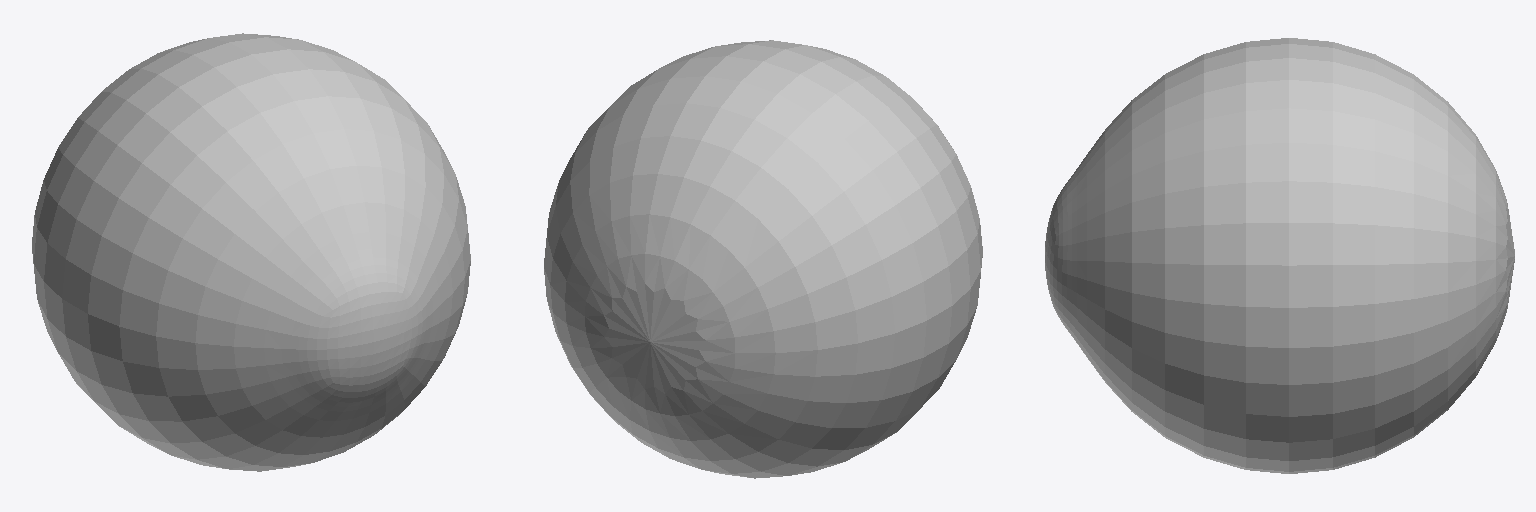
The model's file is bigEye.obj.
3 views of the same model, side by side, from view 1: azimuth 30°, elevation 25°; view 2: azimuth 150°, elevation 25°; view 3: azimuth 270°, elevation 25° (orthographic).
Visible parts, largest first — view 1: Eye_Sphere.017; view 2: Eye_Sphere.017; view 3: Eye_Sphere.017.
Part boxes in pixels (x1,y1,x2,y2): Eye_Sphere.017: (32,33,470,471); Eye_Sphere.017: (544,40,982,478); Eye_Sphere.017: (1045,38,1514,473).
Size of the model in its own units: 1.9 by 1.9 by 2.05.